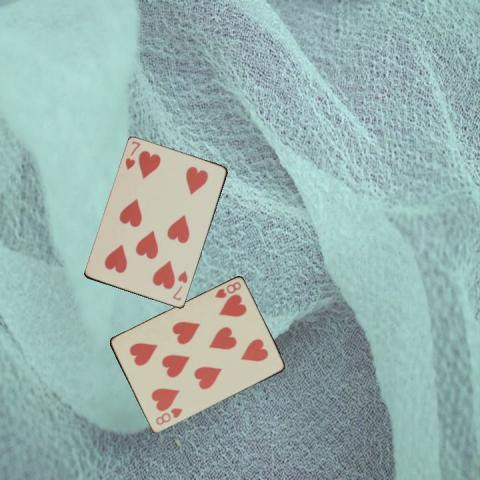7h: (170, 268, 189, 302), (123, 138, 141, 172)
8h: (153, 405, 184, 427), (211, 279, 243, 300)
